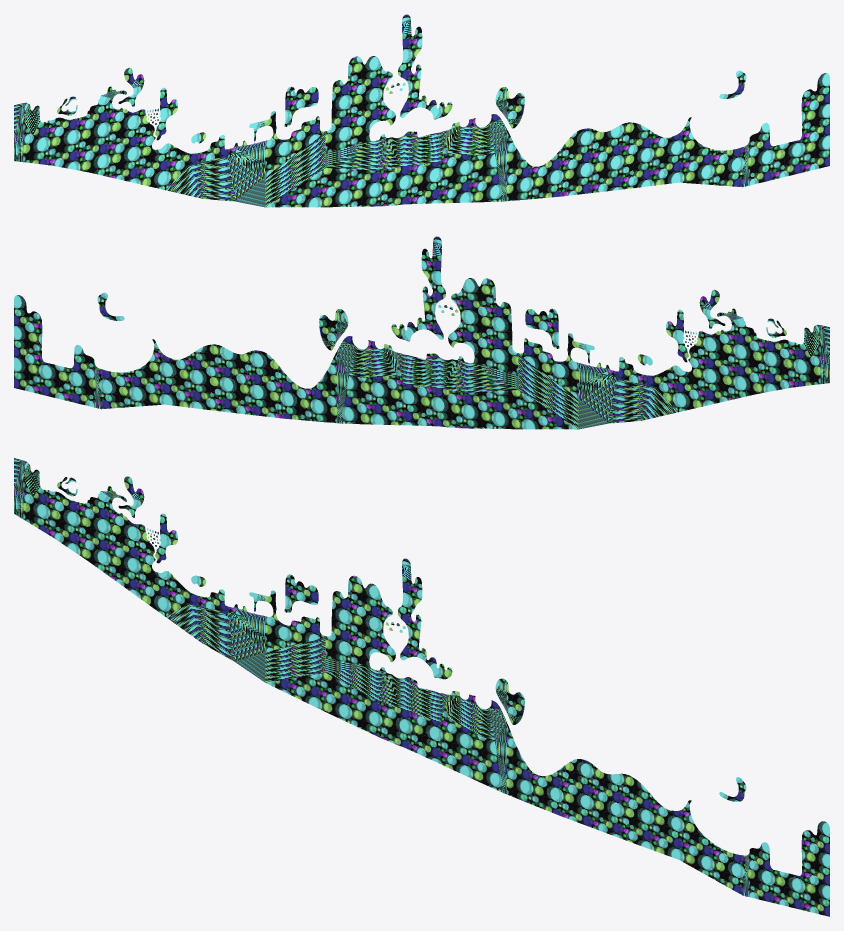
Rendered from yama03.glb.
The picture shows the model from 3 angles, top to bottom: view 1: azimuth 30°, elevation 25°; view 2: azimuth 150°, elevation 25°; view 3: azimuth 330°, elevation 25°; orthographic projection.
Visible parts, largest first — view 1: yama03; view 2: yama03; view 3: yama03.
Boxes of the visible parts, x1,y1,x2,y2 form: yama03: [14, 14, 829, 207]; yama03: [14, 236, 829, 429]; yama03: [14, 458, 829, 916].
Size of the model in its own units: 5404 by 1704 by 1.
1 material, 1 textured.
